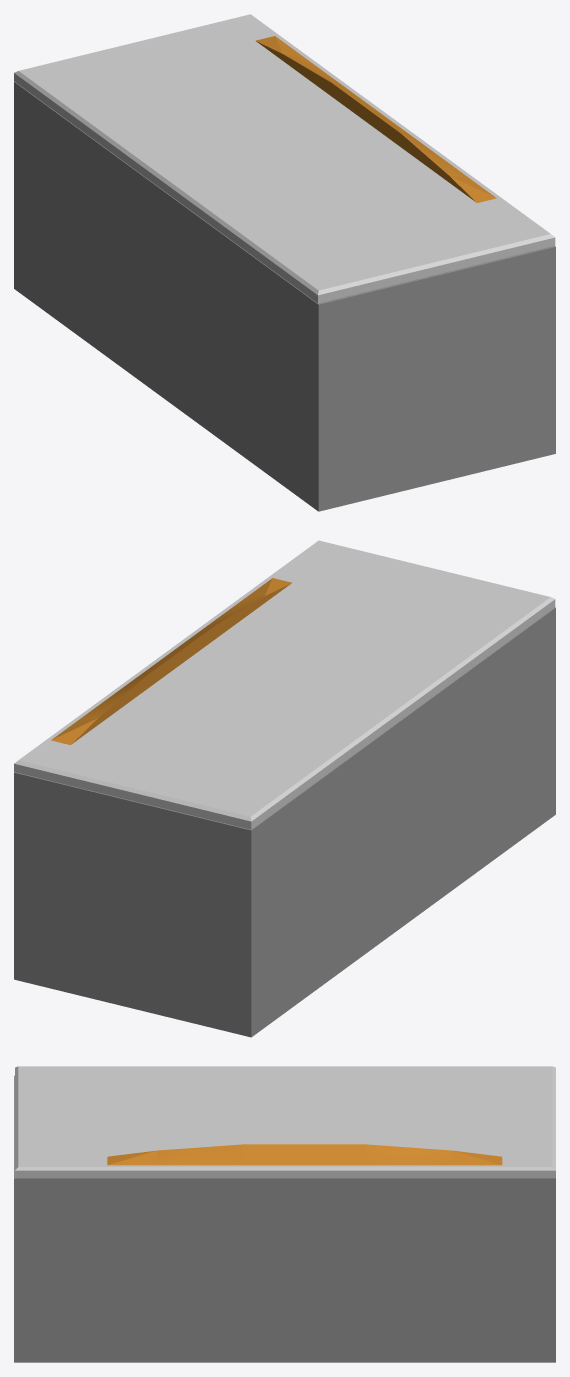
File: ChestFreezer.fbx
3 views of the same model, one above another, from view 1: azimuth 30°, elevation 25°; view 2: azimuth 150°, elevation 25°; view 3: azimuth 270°, elevation 25° (orthographic). The views are drawn at different scales.
Parts seen in each view (by area): view 1: object2, object3; view 2: object2, object3; view 3: object2, object3.
Boxes of the visible parts, x1,y1,x2,y2 form: object2: (14,81,555,511); object3: (14,14,555,303); object2: (14,607,555,1037); object3: (14,540,555,829); object2: (14,1075,555,1362); object3: (15,1066,555,1178).
Size of the model in its own units: 90 by 84.24 by 200.
